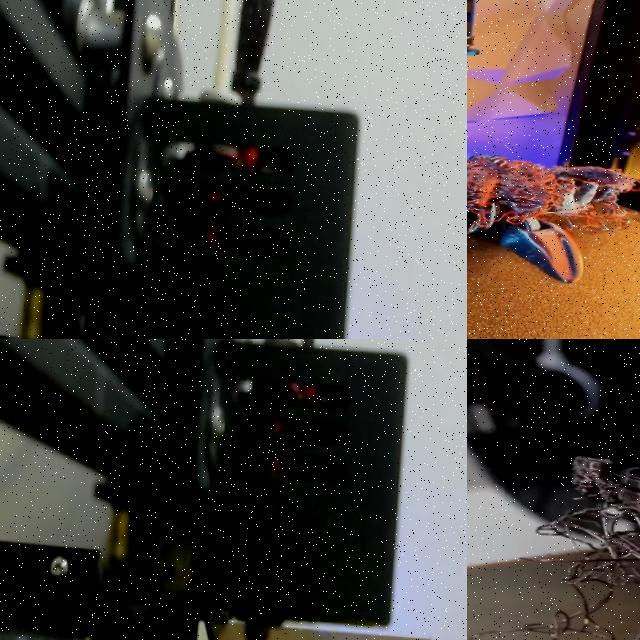spaghetti: (467, 445, 640, 640), (467, 157, 640, 247)
